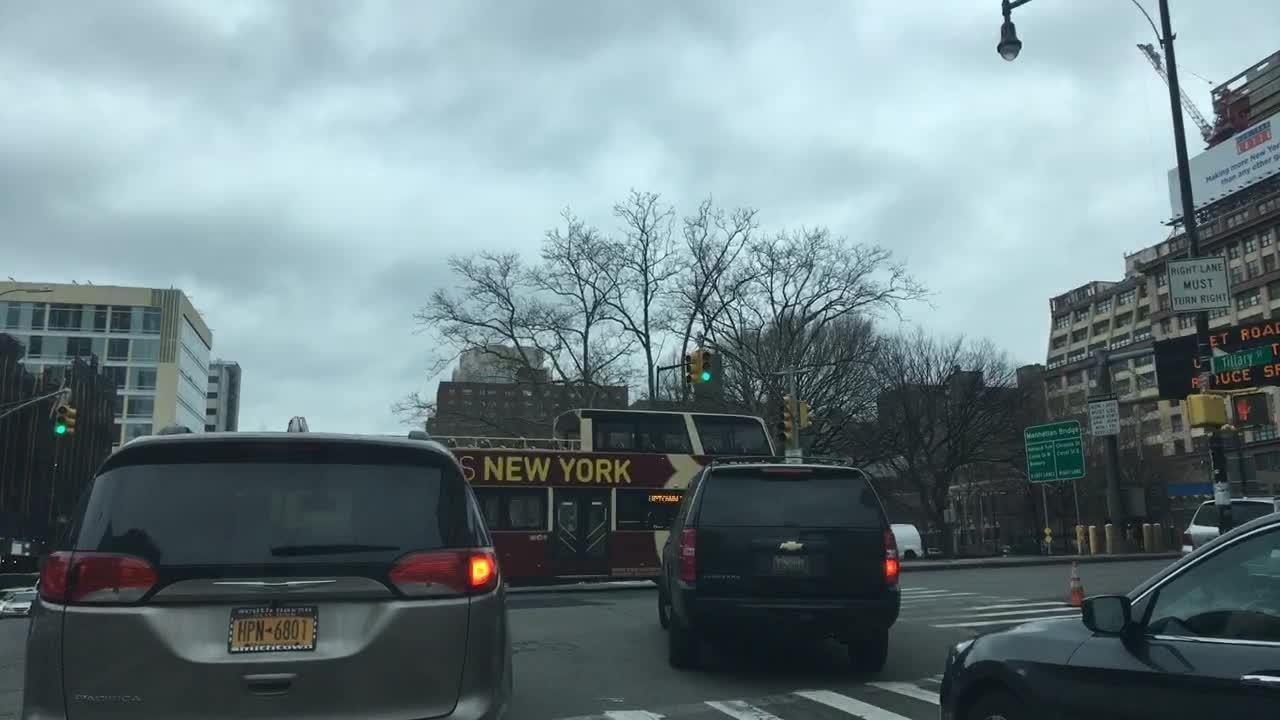Chrysler: (198, 574, 338, 598)
chevrolet: (777, 538, 808, 556)
